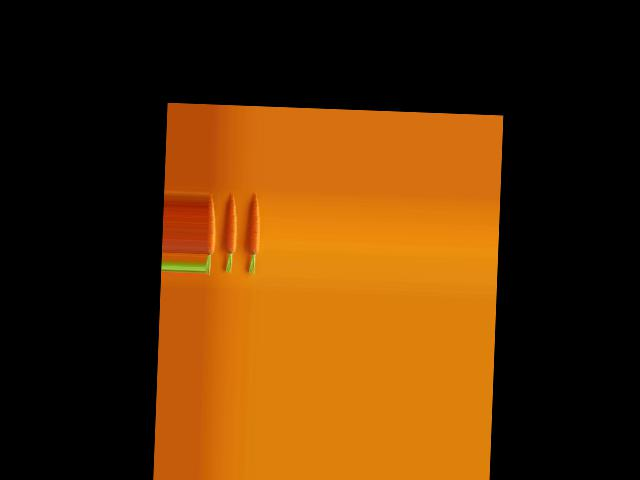carrot: (206, 203, 217, 276)
